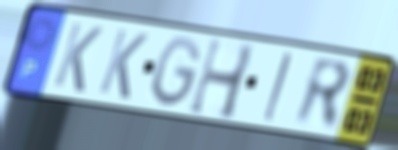G: (148, 34, 204, 111)
H: (185, 34, 259, 124)
I: (260, 49, 295, 125)
K: (49, 19, 105, 96), (95, 26, 151, 103)
R: (292, 54, 354, 134)
